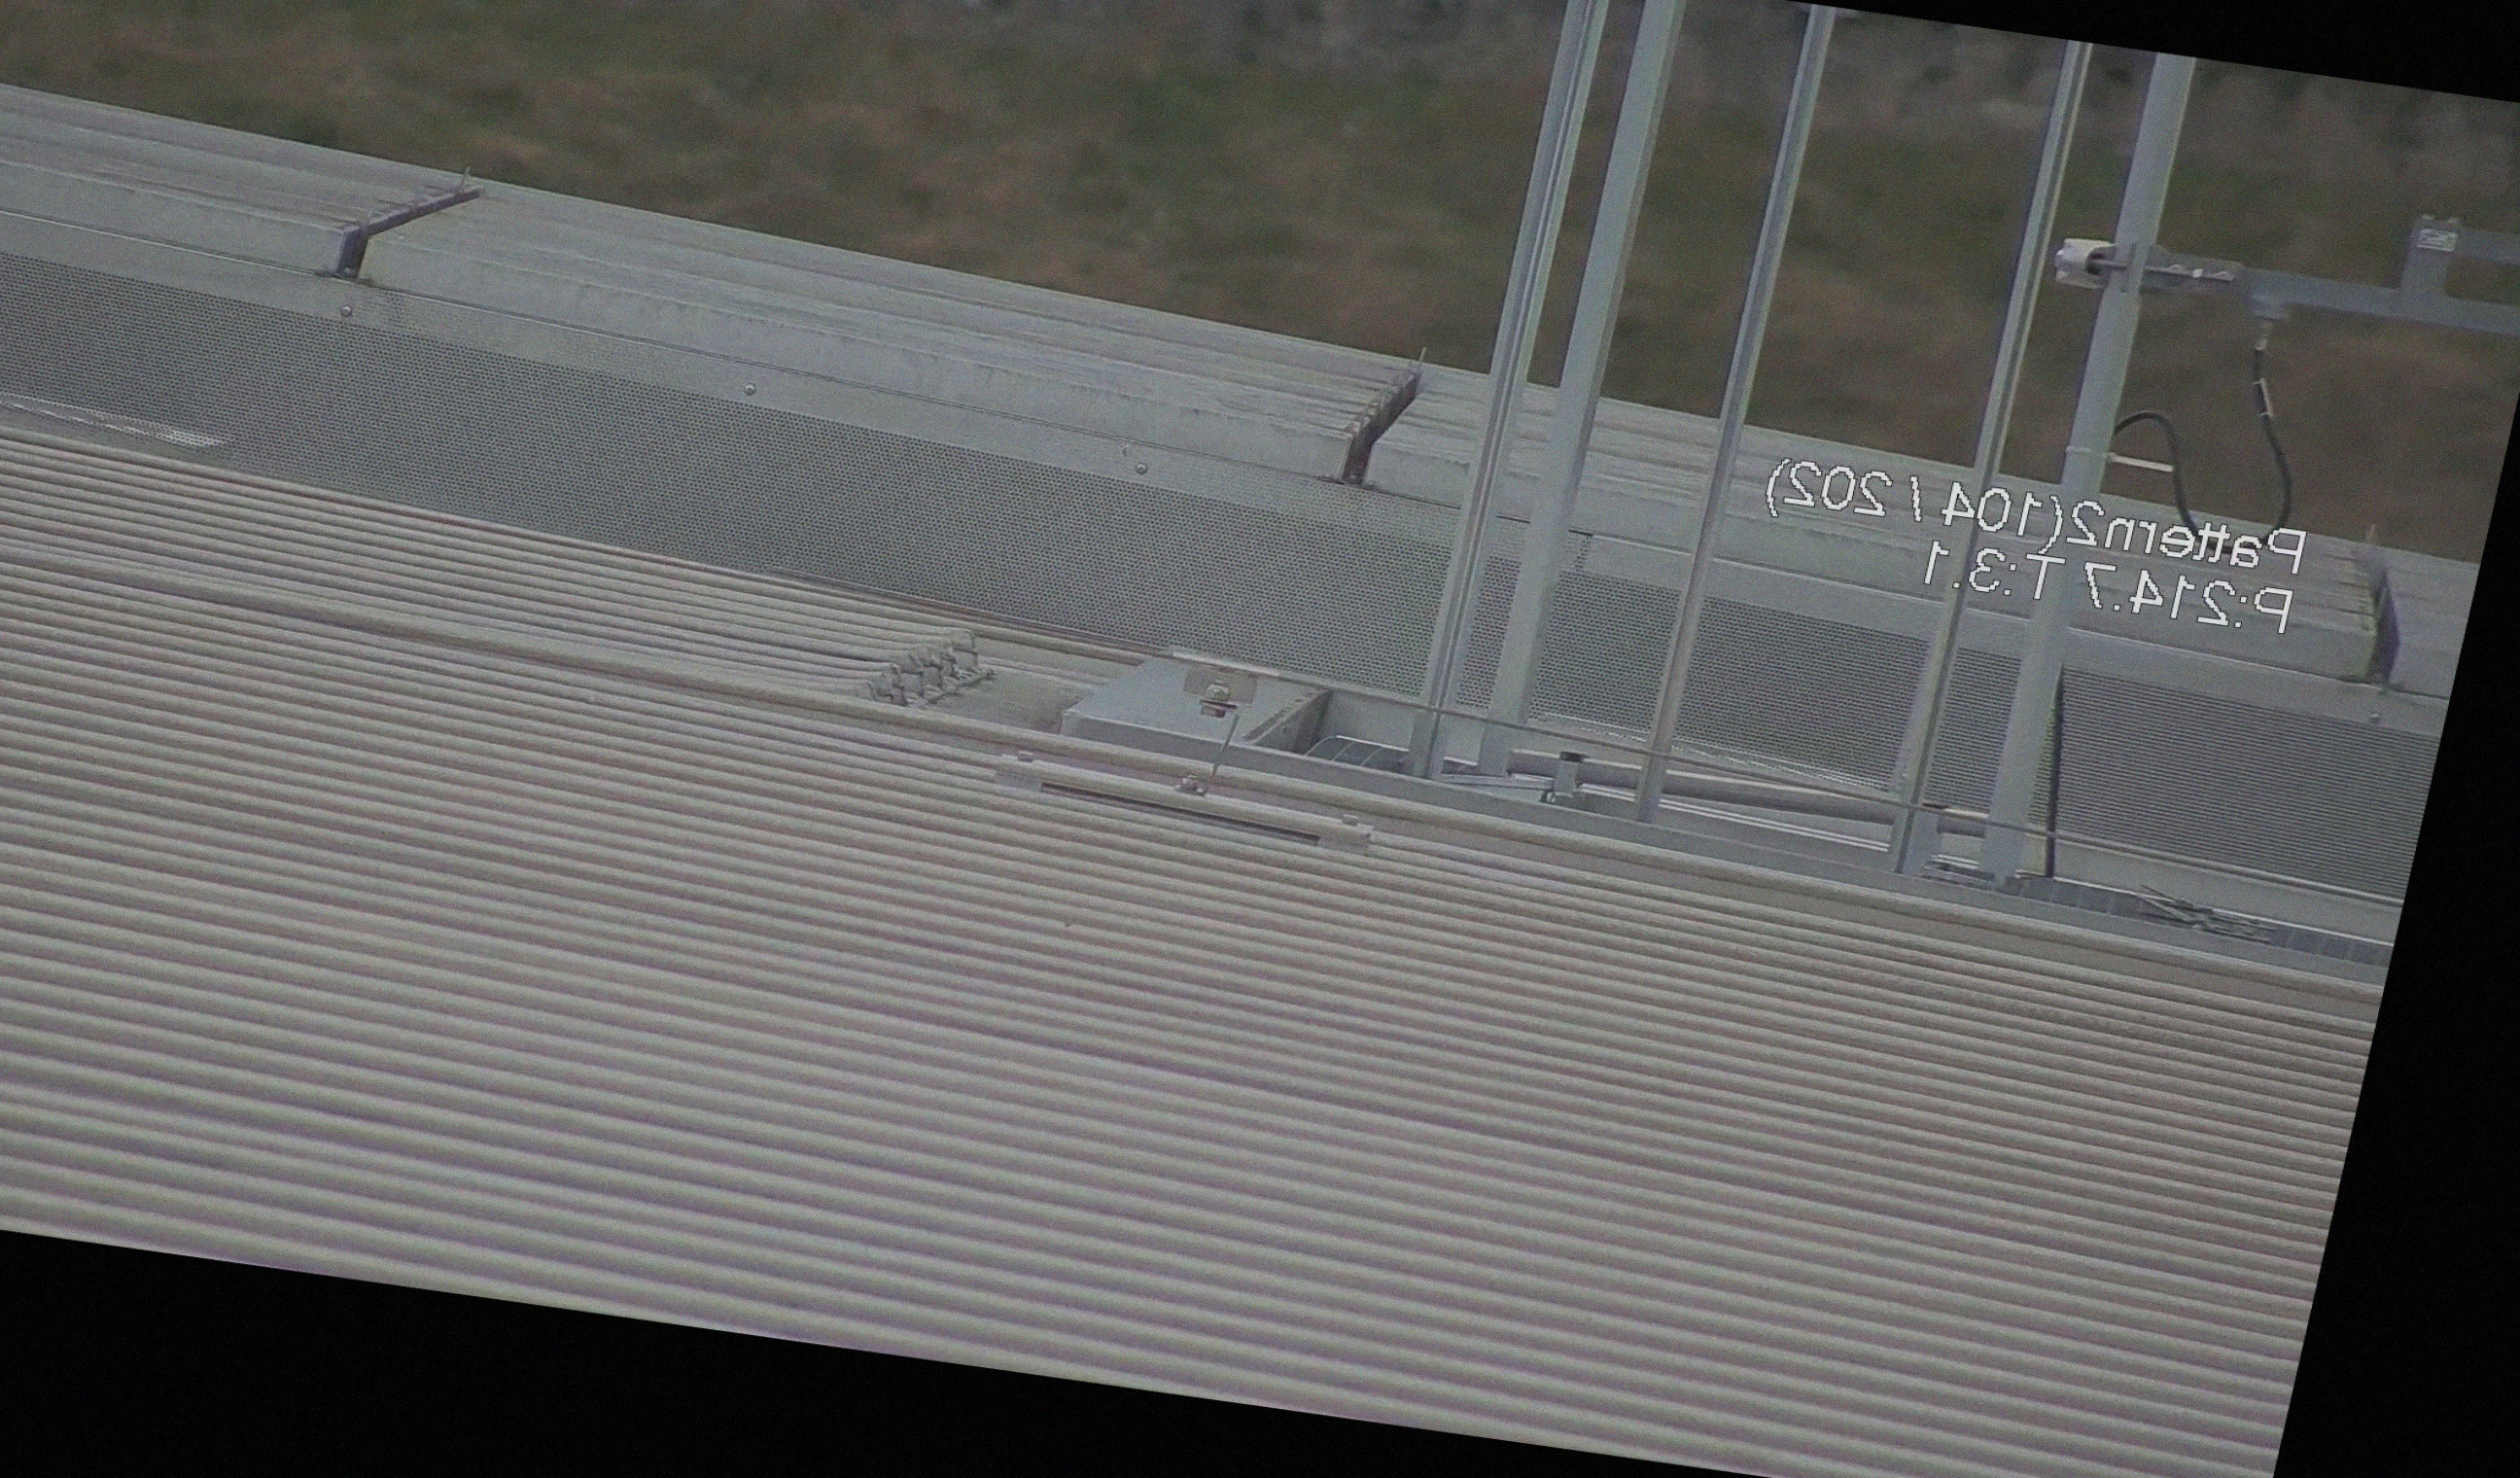Other: (1317, 329, 1454, 493)
